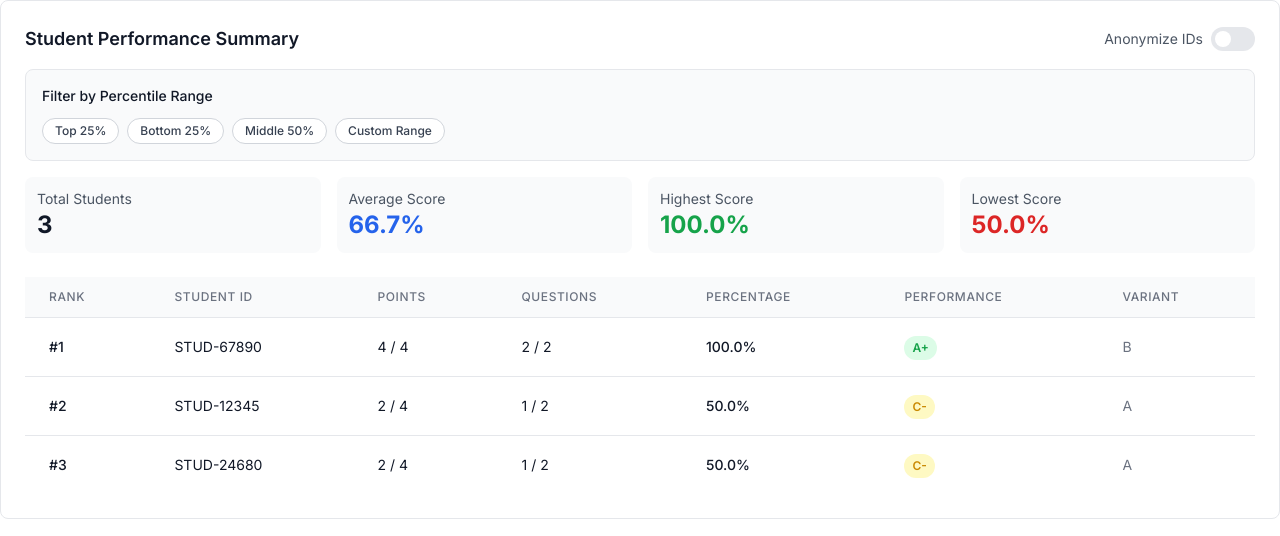
Test: StudentScoreList › toggles between real and anonymized IDs when toggle is clicked
The image size is (1280, 536).
Expected: the text "STUD-12345" is shown, [150,376,354,436]
Expected: the text "STUD-67890" is shown, [150,318,354,376]
# Click the anonymize toggle
Click the button named "Toggle anonymized IDs": click(1233, 39) [1211,27,1255,51]
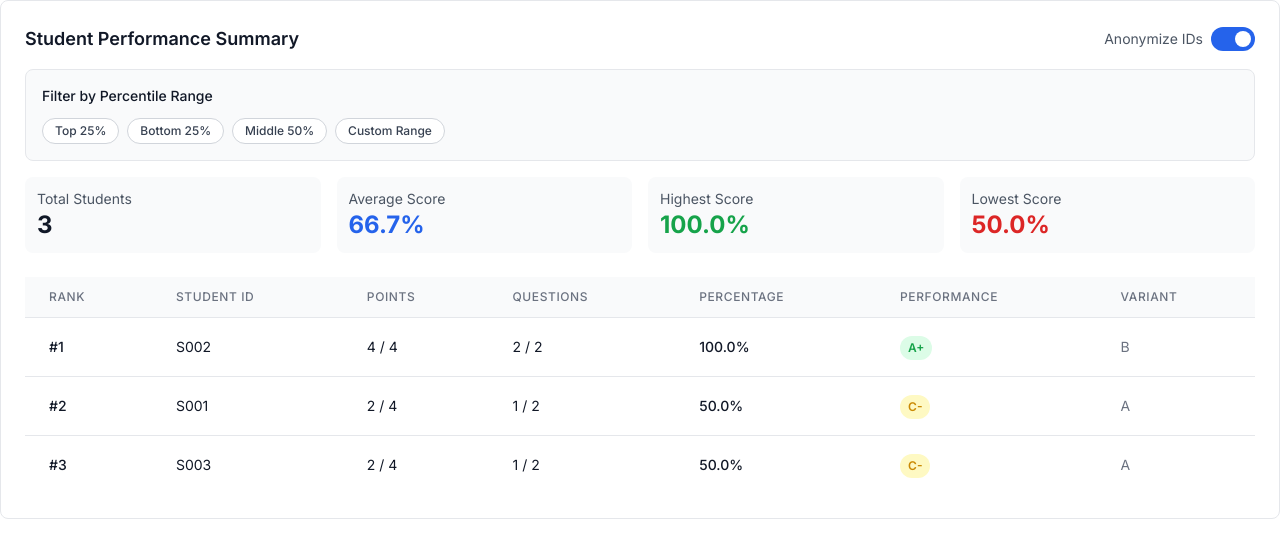
Expected: the text "STUD-12345" is gone
Expected: the text "STUD-67890" is gone
Expected: the text "STUD-24680" is gone
# Toggle back to real IDs
Click the button named "Toggle anonymized IDs": click(1233, 39) [1211,27,1255,51]
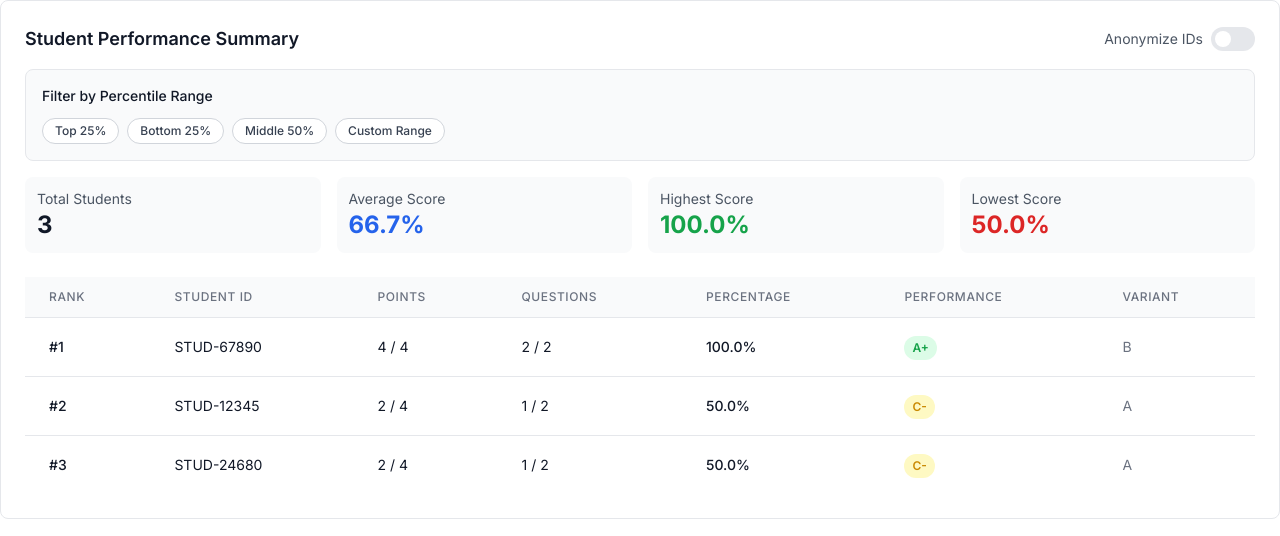
Expected: the text "STUD-12345" is shown, [150,376,354,436]
Expected: the text "STUD-67890" is shown, [150,318,354,376]
Expected: the text "STUD-24680" is shown, [150,436,354,494]
